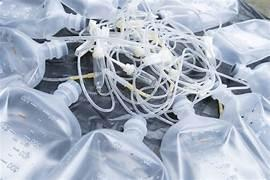Iv_Bottle: (160, 96, 266, 179), (0, 80, 80, 179), (47, 117, 167, 179), (0, 27, 67, 86), (0, 0, 85, 38), (232, 62, 269, 100)
